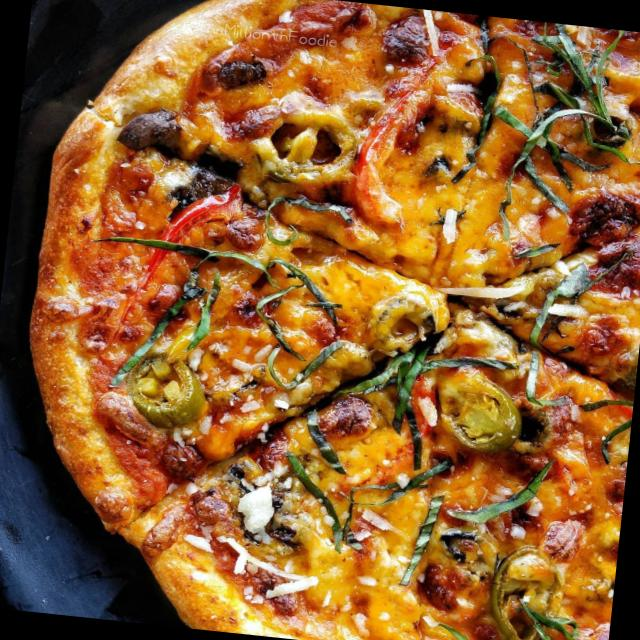peppers: (352, 39, 458, 240), (122, 170, 235, 322), (357, 278, 455, 358)
pizza: (23, 0, 640, 640)
